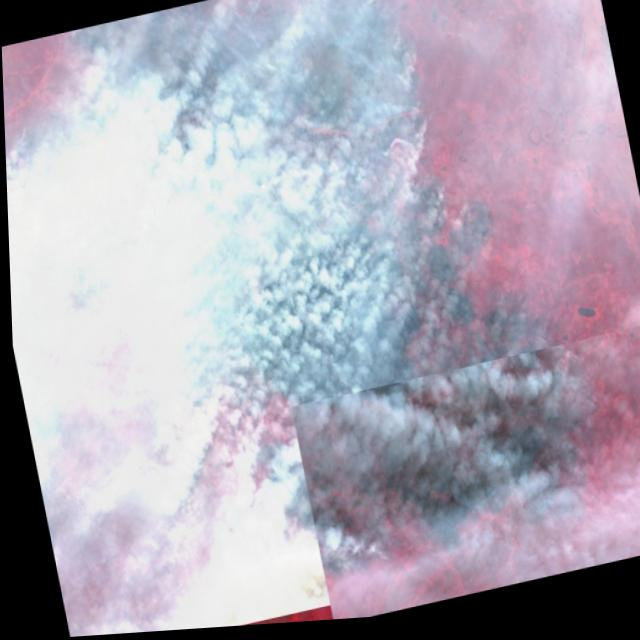fire: (165, 334, 394, 620), (249, 0, 460, 255), (524, 311, 616, 534), (3, 112, 88, 293)
